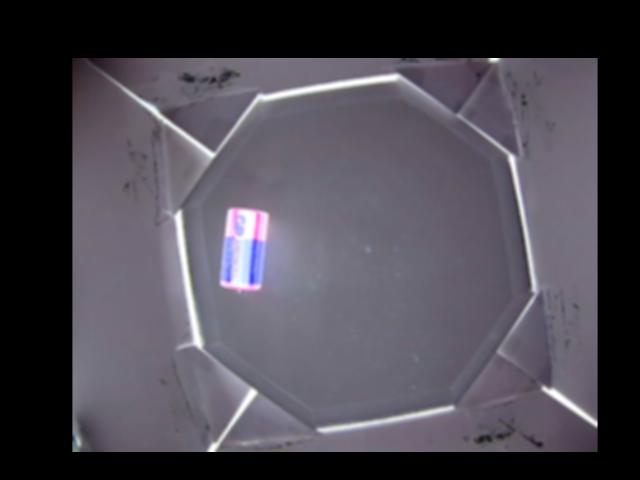Battery: (217, 206, 267, 292)
